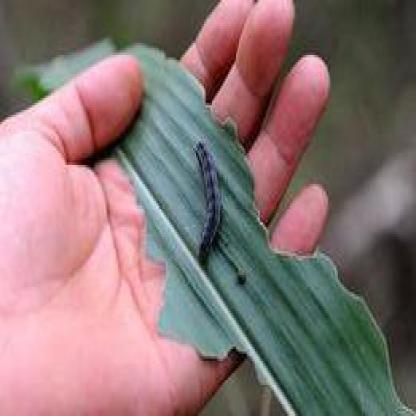armyworm: (189, 137, 225, 282)
